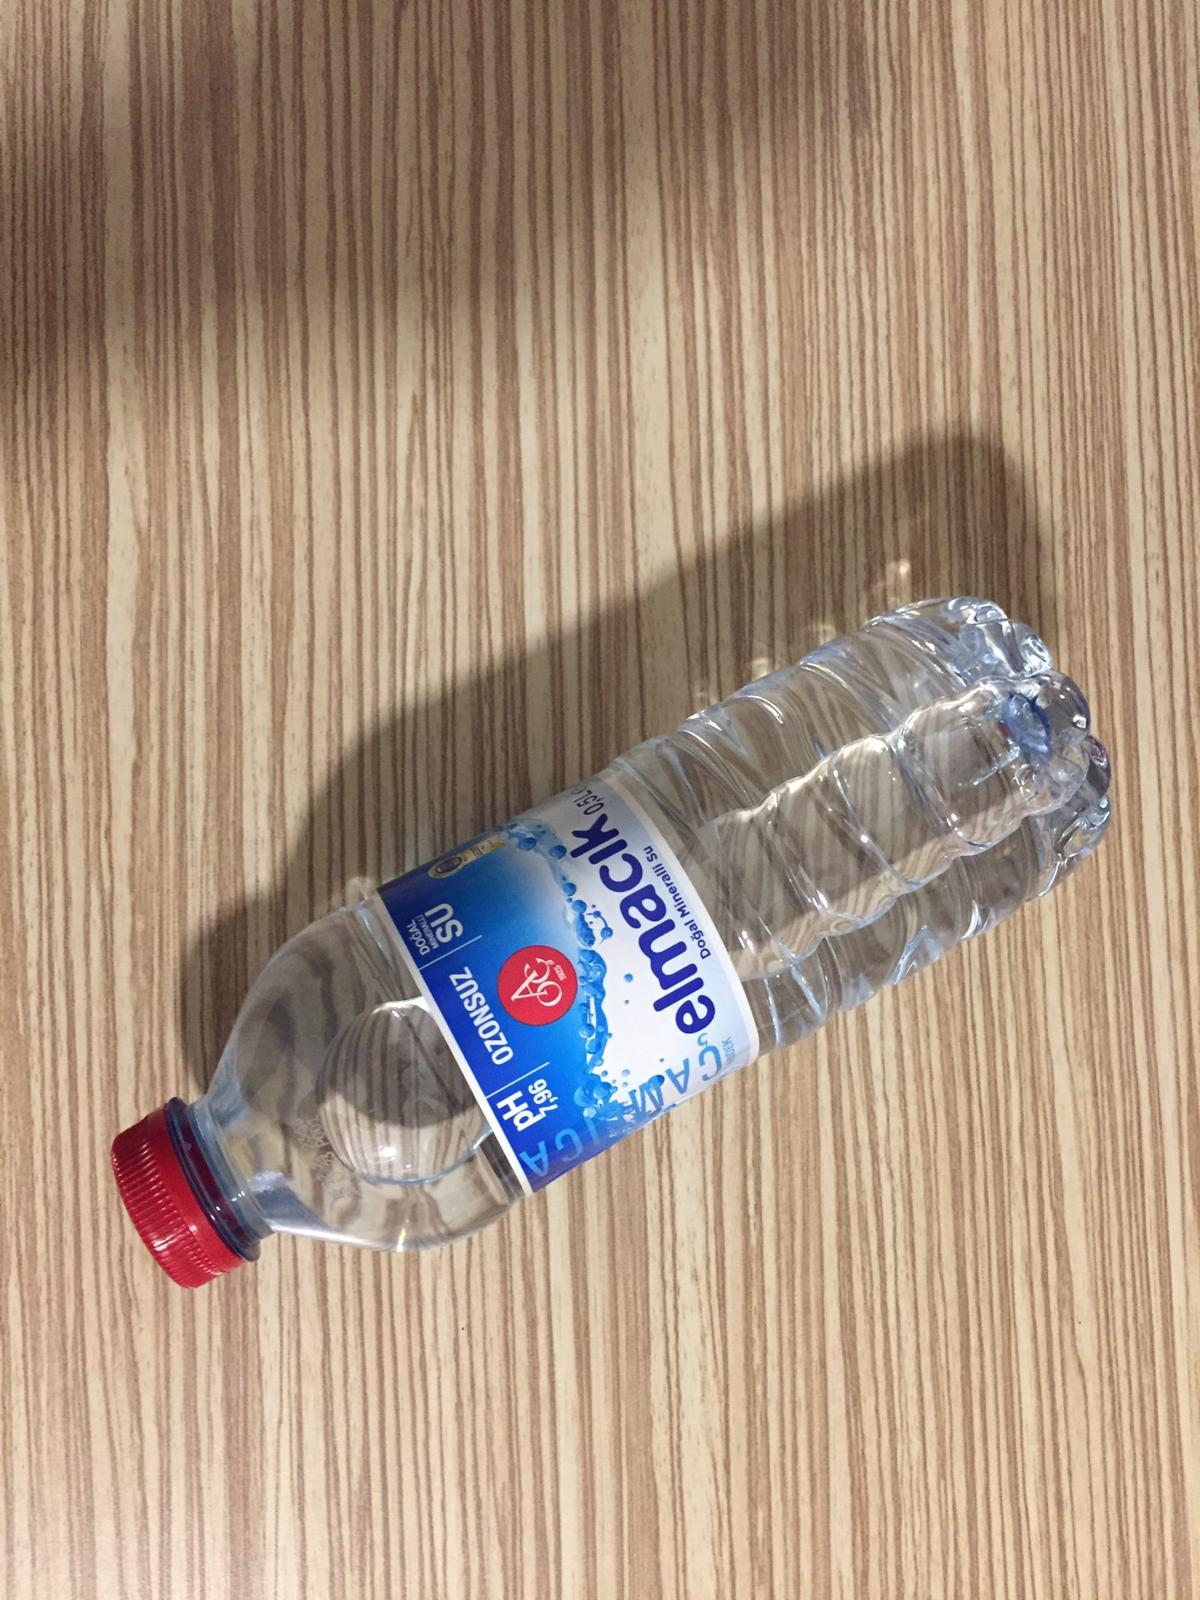bottle: (116, 592, 1108, 1296)
